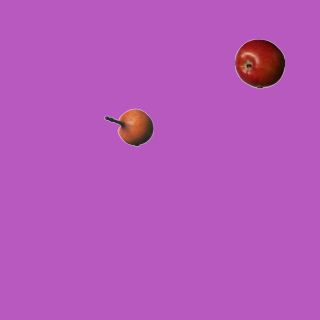Apple Braeburn: (234, 38, 284, 88)
Granadilla: (103, 102, 153, 152)
